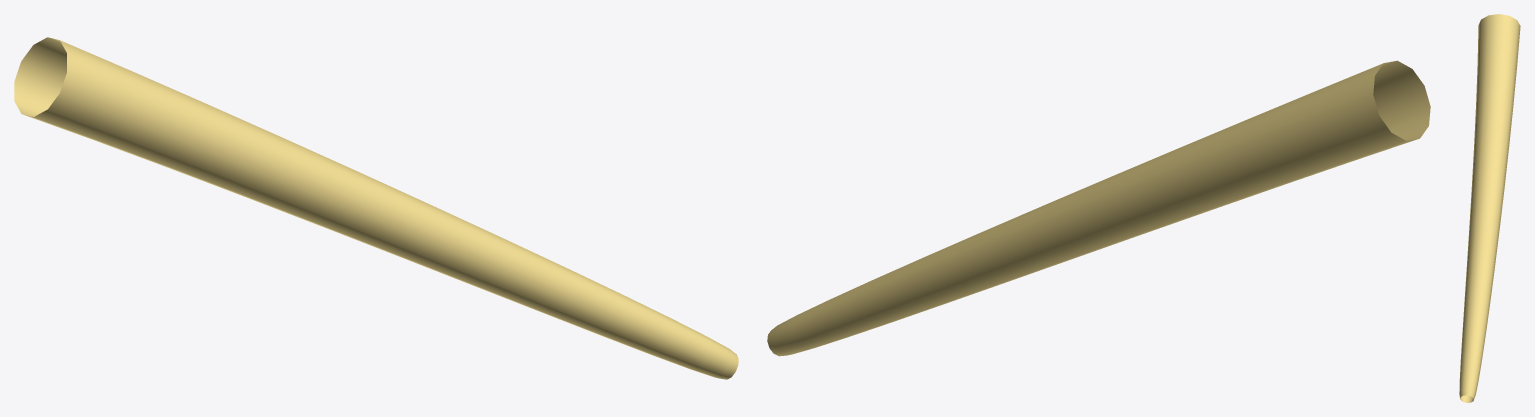
3 renders of one model, left to right at view 1: azimuth 30°, elevation 25°; view 2: azimuth 150°, elevation 25°; view 3: azimuth 270°, elevation 25°, orthographic. The views are drawn at different scales.
Parts seen in each view (by area): view 1: ZA_7acc5509ca8f9925; view 2: ZA_7acc5509ca8f9925; view 3: ZA_7acc5509ca8f9925.
Part boxes in pixels (x1=…): ZA_7acc5509ca8f9925: x1=14, y1=37, x2=738, y2=379; ZA_7acc5509ca8f9925: x1=767, y1=60, x2=1430, y2=356; ZA_7acc5509ca8f9925: x1=1459, y1=14, x2=1520, y2=402.
Size of the model in its own units: 0.0281 by 0.0185 by 0.00435.
